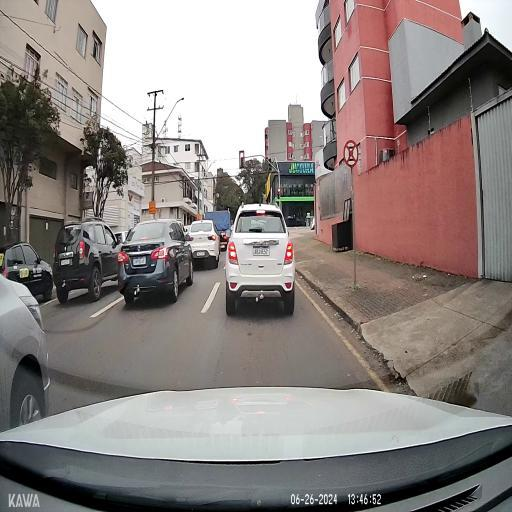R-6c: (343, 140, 358, 166)
